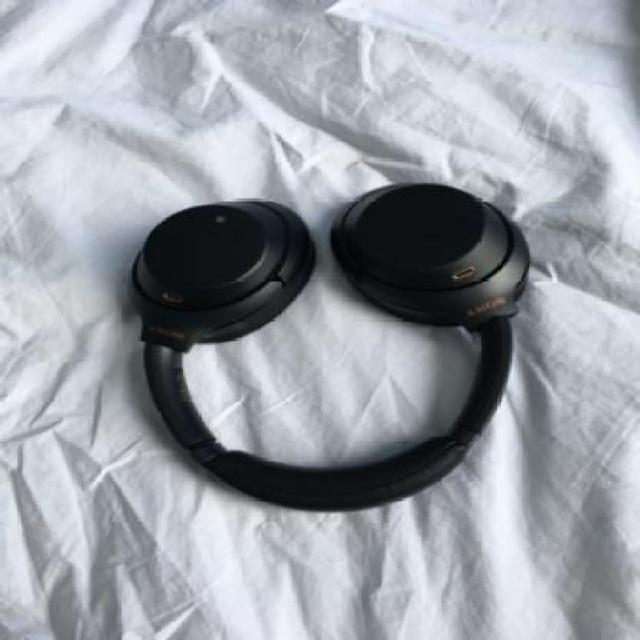earphone: (105, 60, 545, 547)
